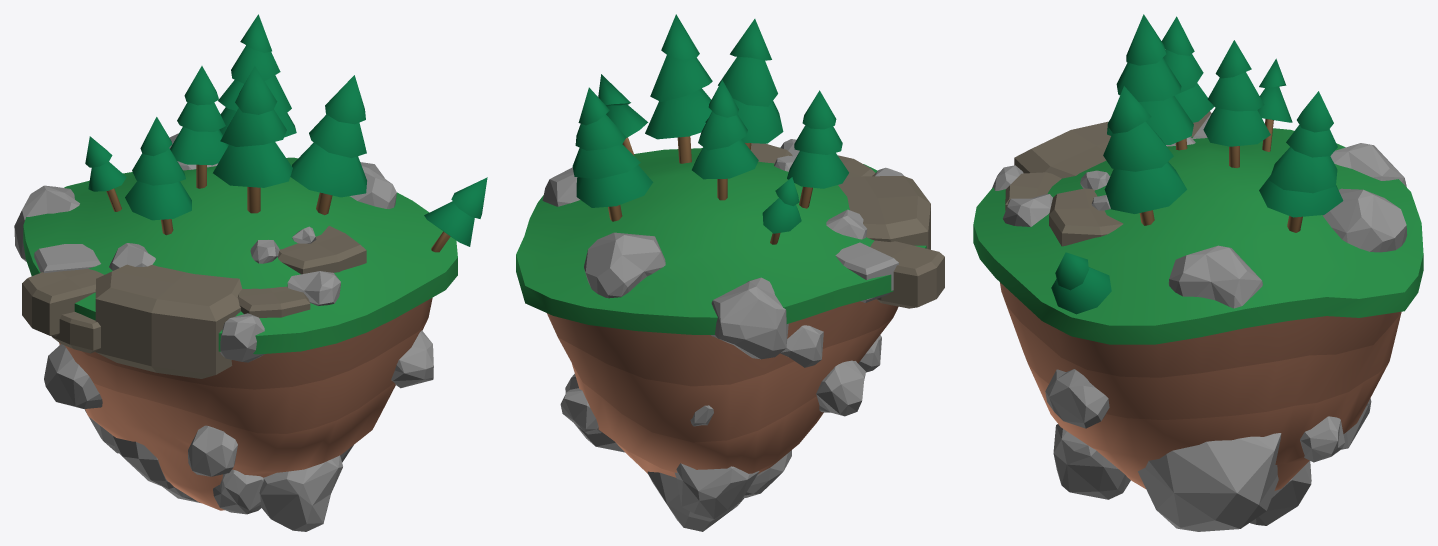
3 views of the same model, side by side, from view 1: azimuth 30°, elevation 25°; view 2: azimuth 150°, elevation 25°; view 3: azimuth 270°, elevation 25° (orthographic). The views are drawn at different scales.
Visible parts, largest first — view 1: grass, dirt, trees, stones, flatstones, trunks; view 2: grass, dirt, trees, stones, flatstones, trunks; view 3: grass, dirt, stones, trees, flatstones, trunks.
Part boxes in pixels (left/top/right/bottom): grass: left=23, top=157, right=457, bottom=354; dirt: left=59, top=297, right=432, bottom=510; trees: left=85, top=14, right=487, bottom=246; stones: left=14, top=133, right=433, bottom=531; flatstones: left=22, top=226, right=366, bottom=378; trunks: left=106, top=164, right=450, bottom=252; grass: left=516, top=148, right=926, bottom=334; dirt: left=547, top=299, right=898, bottom=477; trees: left=572, top=14, right=848, bottom=233; stones: left=542, top=139, right=903, bottom=531; flatstones: left=750, top=143, right=944, bottom=308; trunks: left=608, top=136, right=812, bottom=244; grass: left=973, top=128, right=1423, bottom=344; dirt: left=1000, top=282, right=1401, bottom=490; stones: left=992, top=113, right=1407, bottom=531; trees: left=1051, top=14, right=1343, bottom=314; flatstones: left=1005, top=111, right=1211, bottom=246; trunks: left=1139, top=119, right=1302, bottom=232.
Size of the model in its own units: 12.36 by 14.12 by 11.49.
